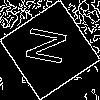N: (25, 25, 77, 69)
